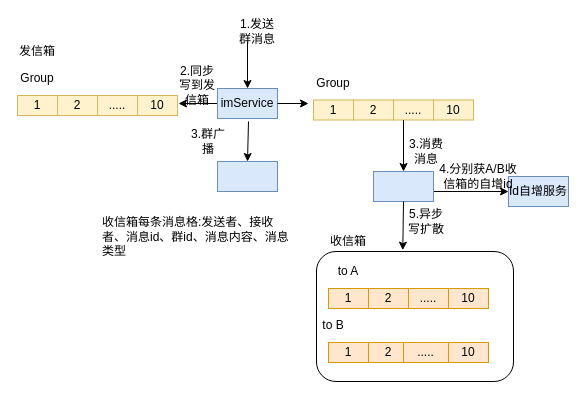
This 586x399 diagram has some shape labels left out. Each missing label, with the centre of its shape:
pushService: (247,176)
syncService: (403,186)
